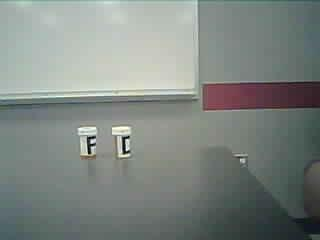Bottle D: (107, 125, 139, 163)
Bottle F: (75, 124, 103, 164)
